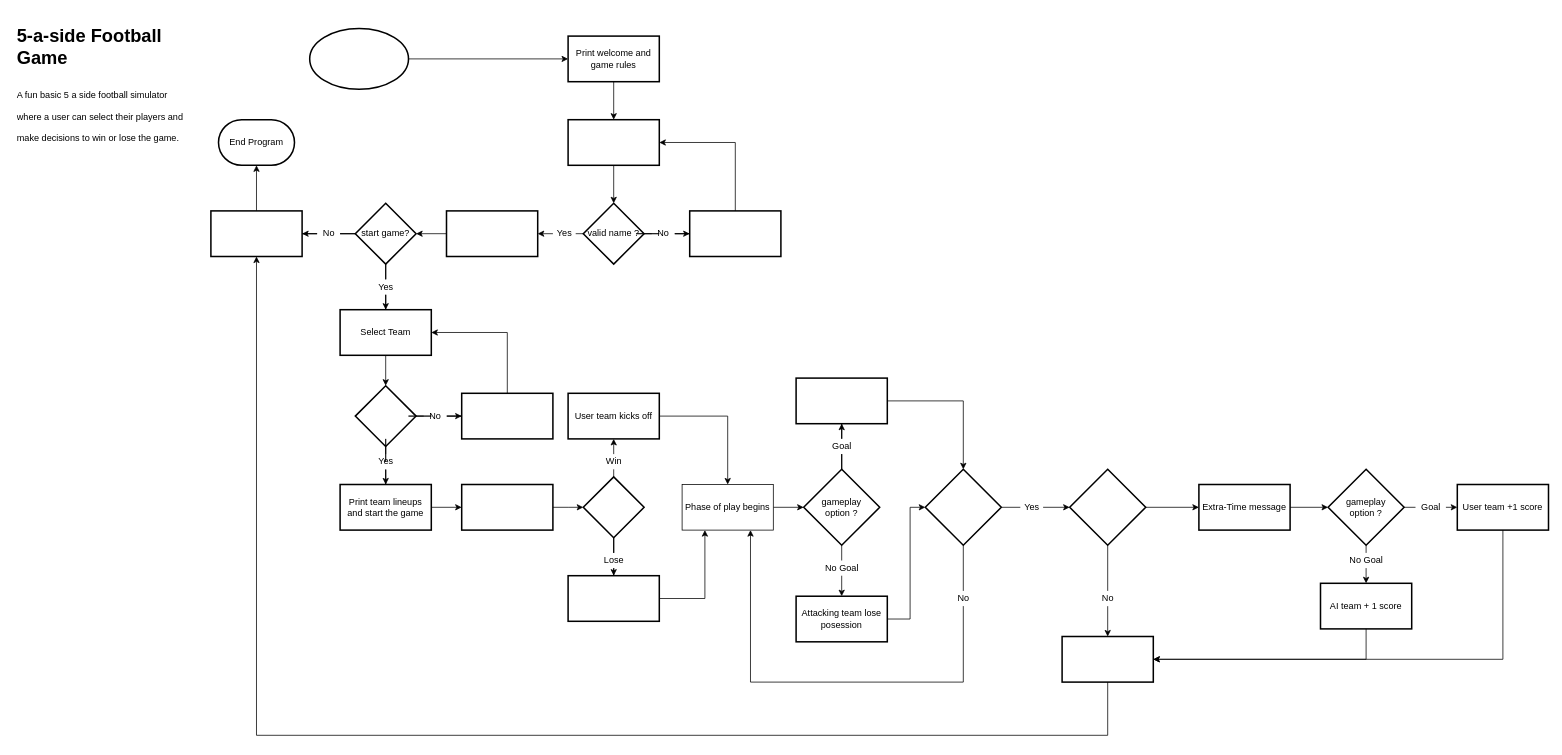
Some shapes in this 1562 by 755 pixel diagram are drawn without their labels. Each missing label, with the centre of its shape:
"+ 1 score to attacking team and lose posession" goes at point 841,400.
"AI team kicks off" goes at point 613,598.
"are team scores = ?" goes at point 1107,507.
"Ask for user name" goes at point 613,142.
"Ask for user to select again" goes at point 507,415.
"Coin Toss" goes at point 507,506.
"confirm selection ?" goes at point 385,416.
"Declare winner of match" goes at point 1107,658.
"Display thank you for playing message" goes at point 256,233.
"game.rb" goes at point 359,58.
"is phase of play > 5?" goes at point 963,507.
"Notify invalid input" goes at point 735,233.
"Print main game menu" goes at point 491,233.
"result?" goes at point 613,507.
